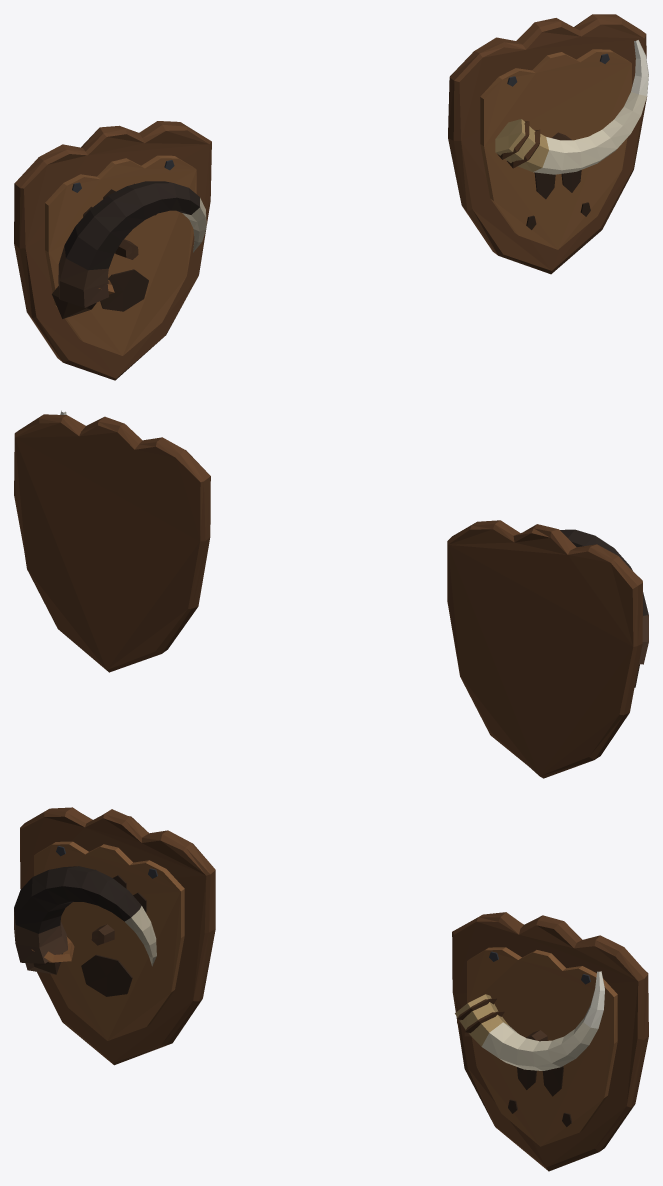
The model's file is trophy-plaques.glb.
3 renders of one model, top to bottom at view 1: azimuth 30°, elevation 25°; view 2: azimuth 150°, elevation 25°; view 3: azimuth 330°, elevation 25°, orthographic.
Visible parts, largest first — view 1: trophy-plaques; view 2: trophy-plaques; view 3: trophy-plaques.
Part boxes in pixels (x1=…): trophy-plaques: x1=14, y1=14, x2=648, y2=380; trophy-plaques: x1=14, y1=410, x2=648, y2=778; trophy-plaques: x1=14, y1=807, x2=648, y2=1171.
Size of the model in its own units: 1.15 by 0.4413 by 0.154.
